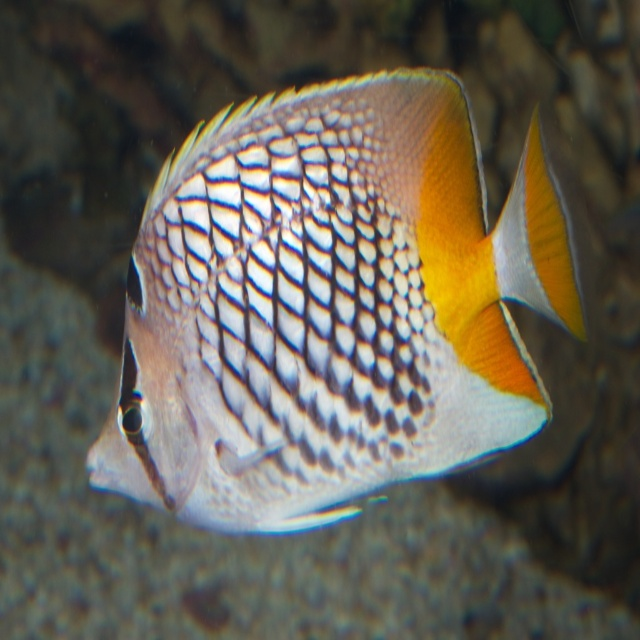Fish: (88, 44, 590, 563)
